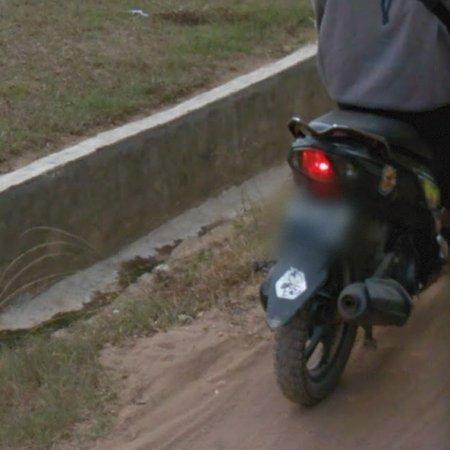motorcycles: (261, 0, 450, 405)
